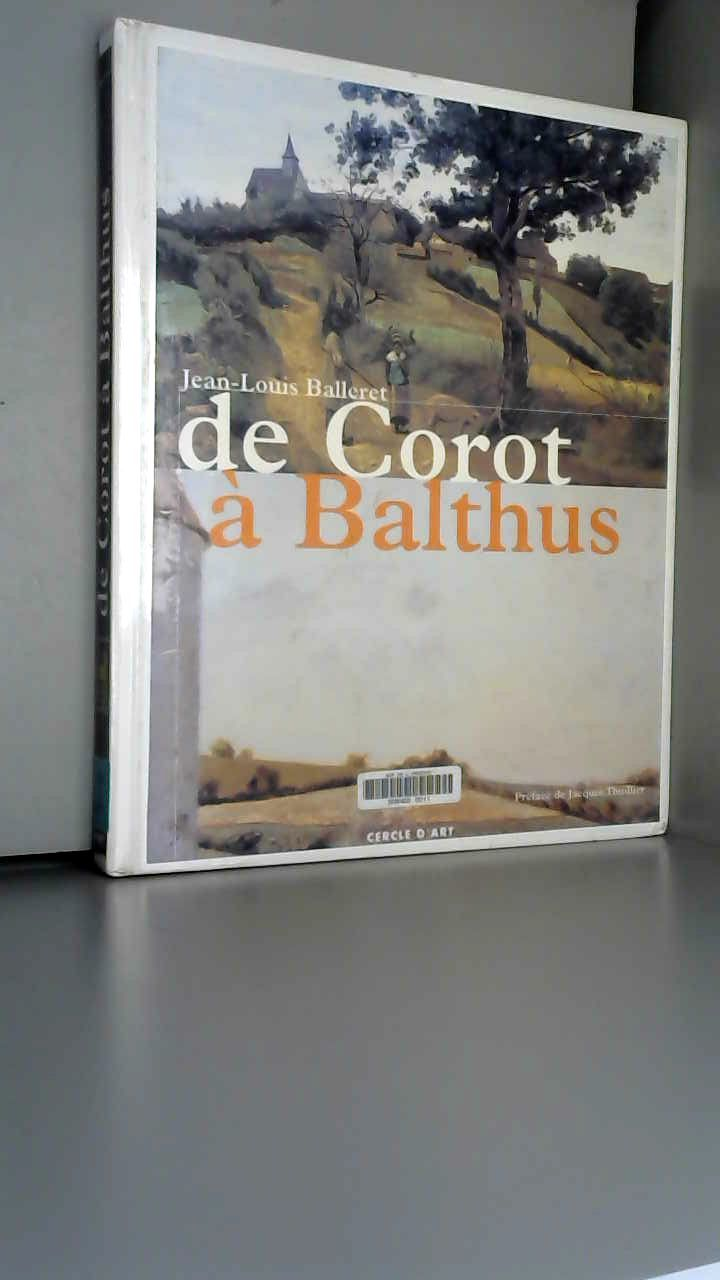book: (70, 0, 720, 895)
